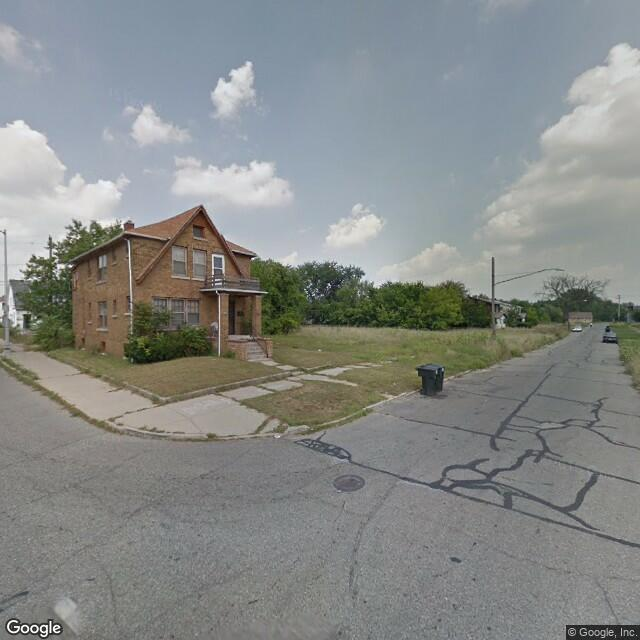litter: (272, 433, 286, 439)
